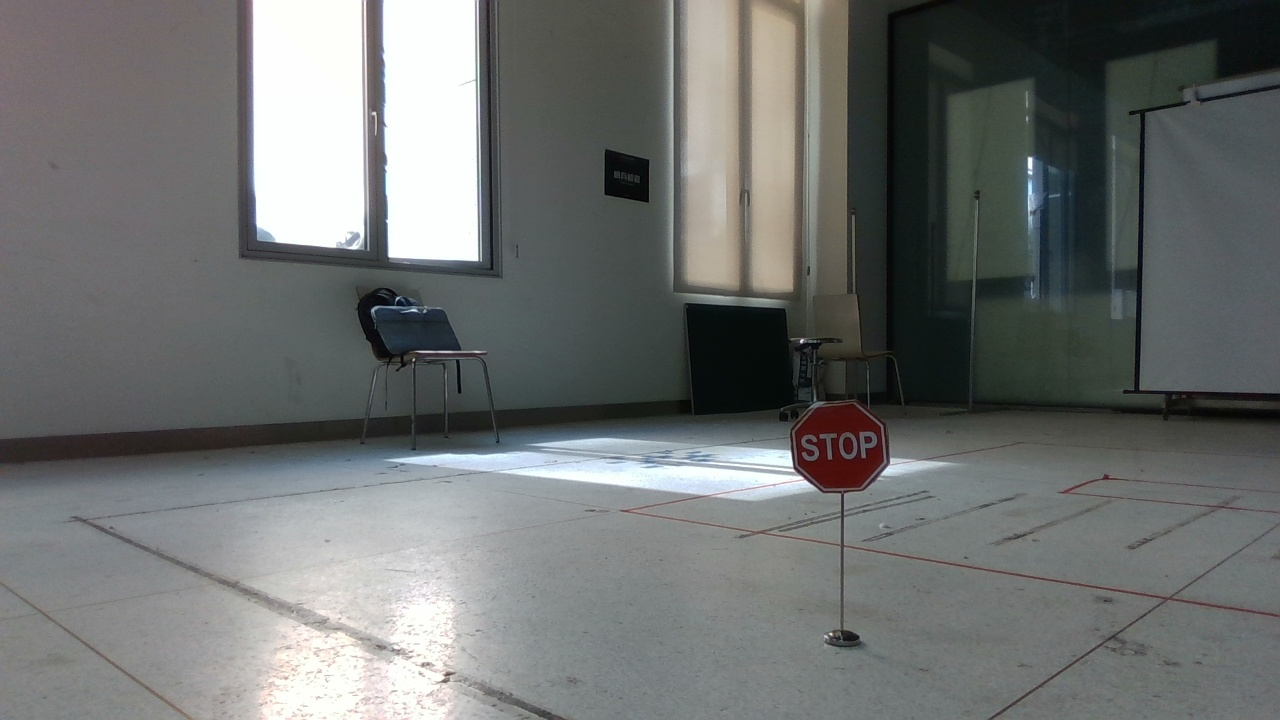stop_sign: (777, 396, 913, 502)
